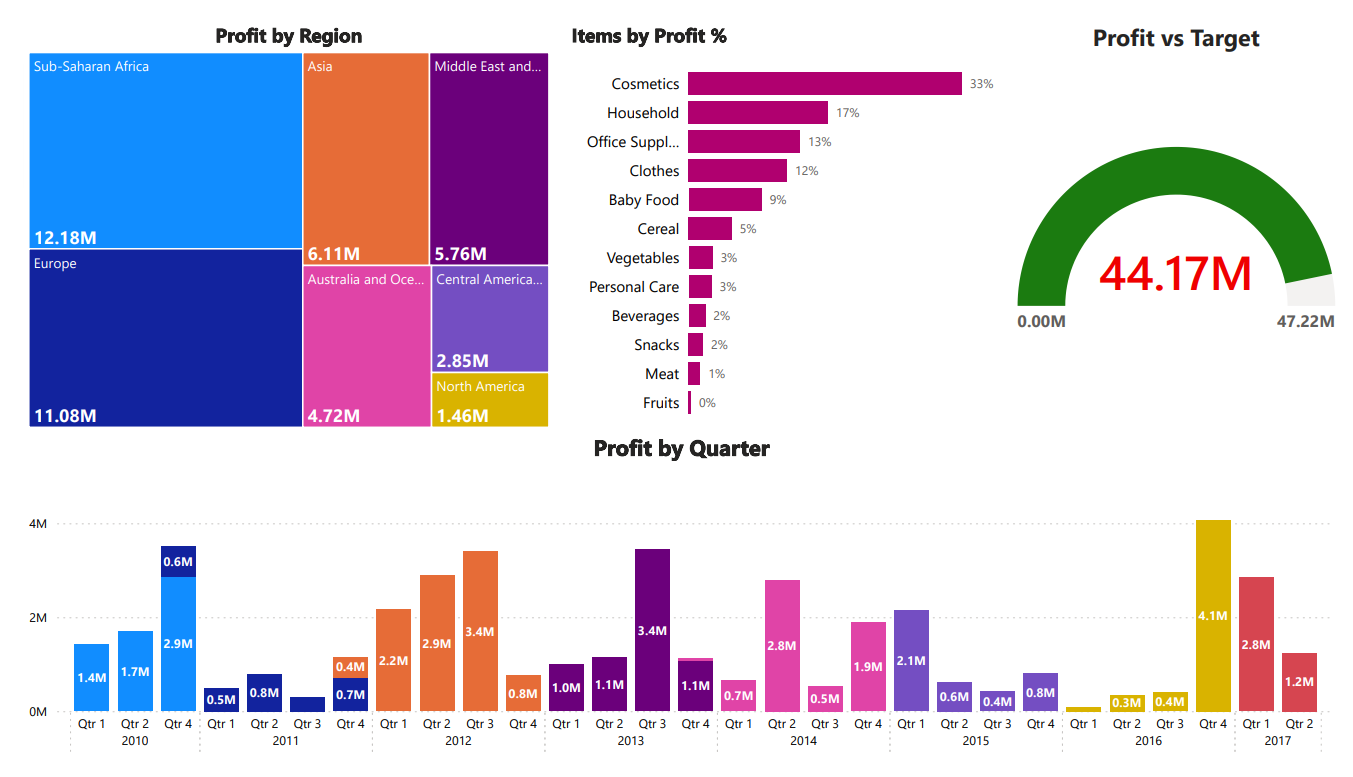

What the dashboard file says about the page in this screenshot:
{"tool":"powerbi","page":{"name":"Profit","canvas":[1280,720],"ordinal":1},"visuals":[{"type":"columnChart","title":"Profit by Quarter","fields":{"Y":["Measure Table.Total Profit"],"Category":["Amazon Sales data.Start of Quarter.Variation.Date Hierarchy.Year","Amazon Sales data.Start of Quarter.Variation.Date Hierarchy.Quarter","Amazon Sales data.Start of Quarter.Variation.Date Hierarchy.Month","Amazon Sales data.Start of Quarter.Variation.Date Hierarchy.Day"],"Series":["Amazon Sales data.Year"]},"box":[0,399,1280,322],"z":0},{"type":"treemap","title":"Profit by Region","fields":{"Group":["Amazon Sales data.Region"],"Values":["Sum(Amazon Sales data.Total Profit)"]},"box":[0,0,516.5,399],"z":1000},{"type":"clusteredBarChart","title":"Items by Profit %","fields":{"Category":["Amazon Sales data.Item Type"],"Y":["Measure Table.Total Profit"]},"box":[528.3,0,403.3,398.3],"z":2000},{"type":"gauge","title":"Profit vs Target","fields":{"Y":["Measure Table.Total Profit"],"MaxValue":["Measure Table.Profit Tgt"]},"box":[931.7,0,333.3,398.3],"z":3000}]}

Visuals, with their boxes in screenshot pixels (x1, y1, x2, y2), scaled from the page's 1280x720 canvas onto the 1353x777 screenshot:
"Profit by Quarter" columnChart: l=0, t=431, r=1352, b=776
"Profit by Region" treemap: l=0, t=0, r=546, b=431
"Items by Profit %" clusteredBarChart: l=558, t=0, r=985, b=430
"Profit vs Target" gauge: l=985, t=0, r=1337, b=430
